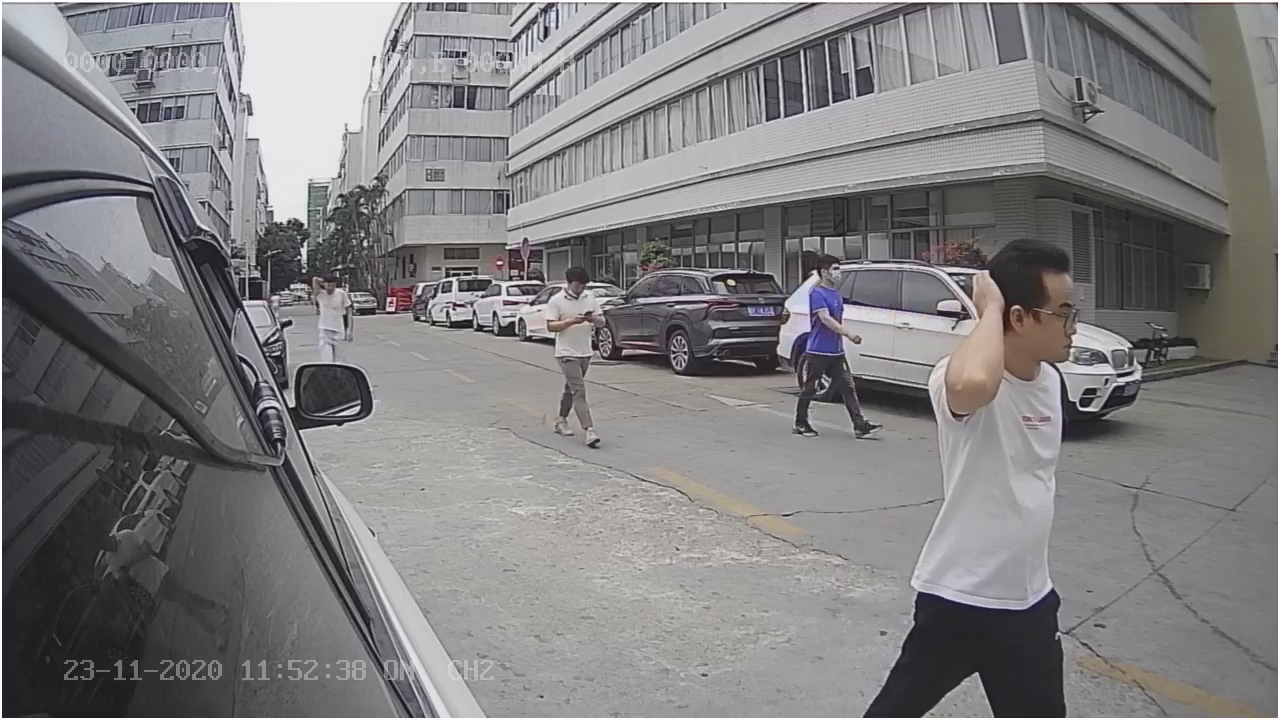person: (932, 248, 1079, 699), (547, 272, 604, 446)
